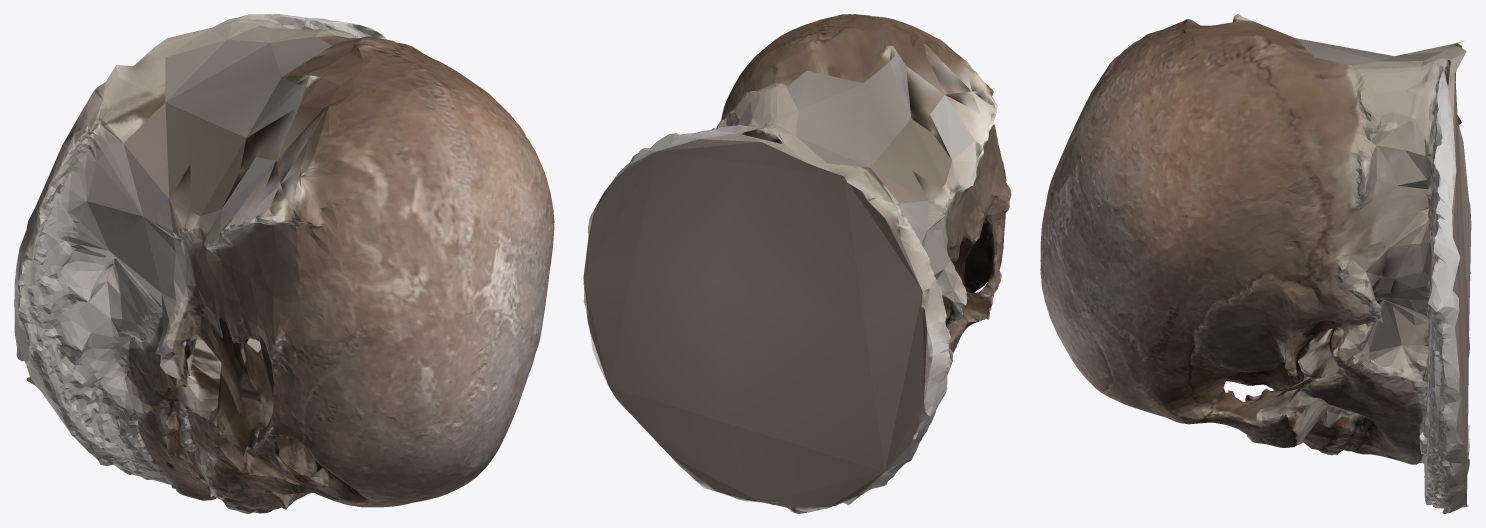
Rendered from human_skull_ii.glb.
The picture shows the model from 3 angles, left to right: view 1: azimuth 30°, elevation 25°; view 2: azimuth 150°, elevation 25°; view 3: azimuth 270°, elevation 25°; orthographic projection. The views are drawn at different scales.
Visible parts, largest first — view 1: default; view 2: default; view 3: default.
Boxes of the visible parts, x1=… form: default: x1=14, y1=14, x2=554, y2=513; default: x1=583, y1=14, x2=1011, y2=513; default: x1=1040, y1=14, x2=1471, y2=513.
Size of the model in its own units: 26.9 by 28.85 by 24.48.
Materials: 1 (1 with a texture image).
